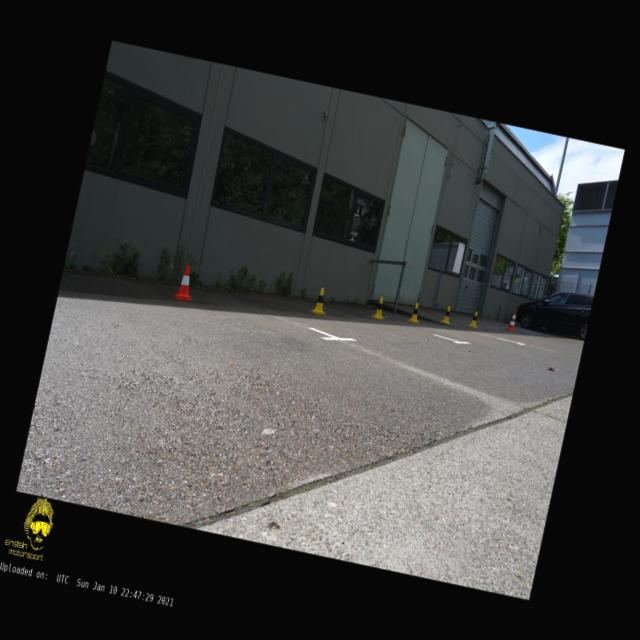large_orange_cone: (506, 308, 520, 332)
orange_cone: (171, 263, 200, 301)
yellow_cone: (310, 285, 330, 315), (371, 295, 387, 320), (407, 301, 422, 324), (440, 304, 453, 324), (468, 310, 480, 327)
